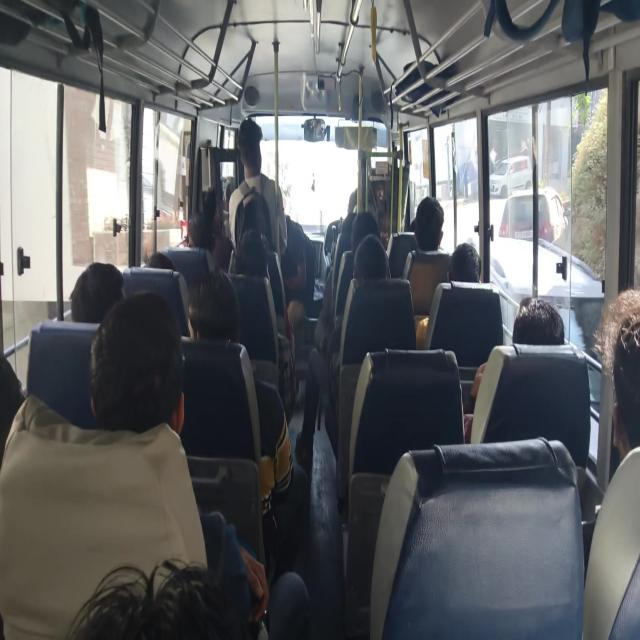person: (95, 573, 303, 640), (100, 307, 179, 445), (608, 303, 640, 472), (74, 251, 133, 339), (198, 267, 248, 355), (0, 344, 34, 444), (280, 218, 310, 309), (443, 246, 487, 298), (515, 302, 559, 354), (145, 240, 191, 285), (360, 237, 398, 282), (416, 196, 444, 253), (236, 115, 264, 172), (191, 204, 220, 252), (247, 231, 270, 291), (197, 181, 229, 216), (218, 238, 242, 277), (356, 212, 371, 248), (342, 209, 364, 233), (411, 207, 427, 231)
